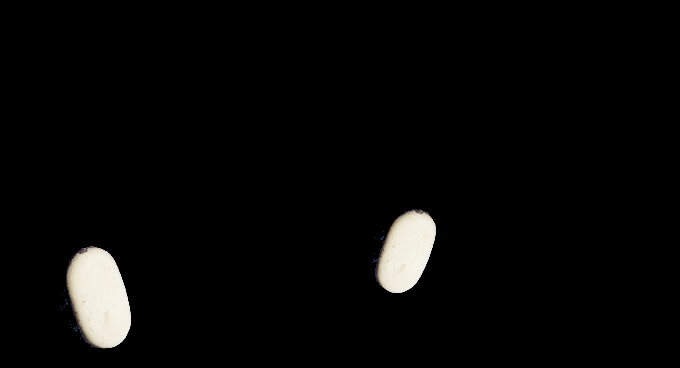test: (34, 235, 156, 359), (351, 197, 456, 301)
